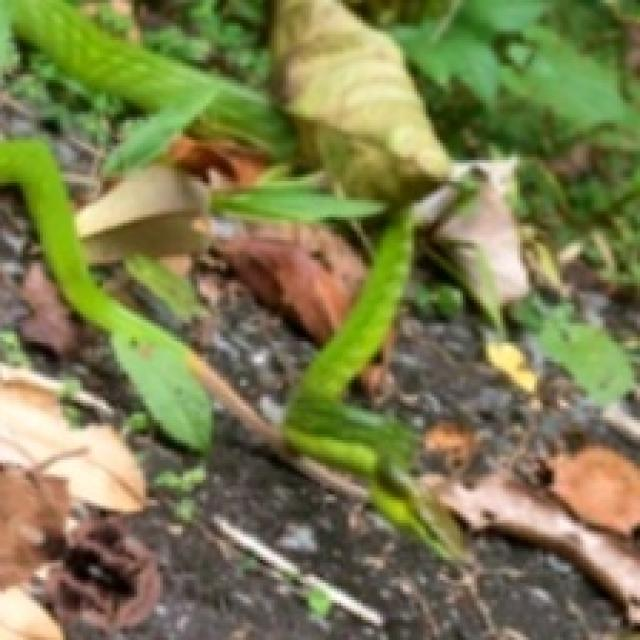red-tailed green ratsnake: (6, 0, 466, 563), (0, 140, 209, 449)
